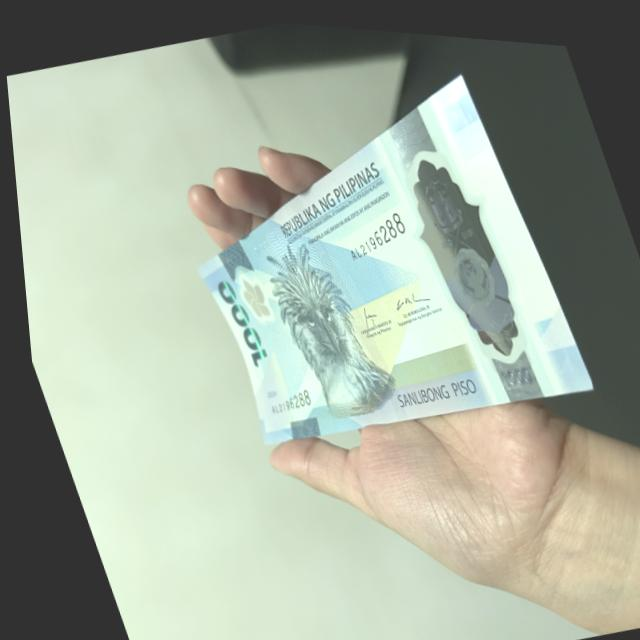clear_window: (387, 110, 538, 365)
eagle: (254, 216, 386, 418)
sampaguita: (227, 259, 271, 324)
